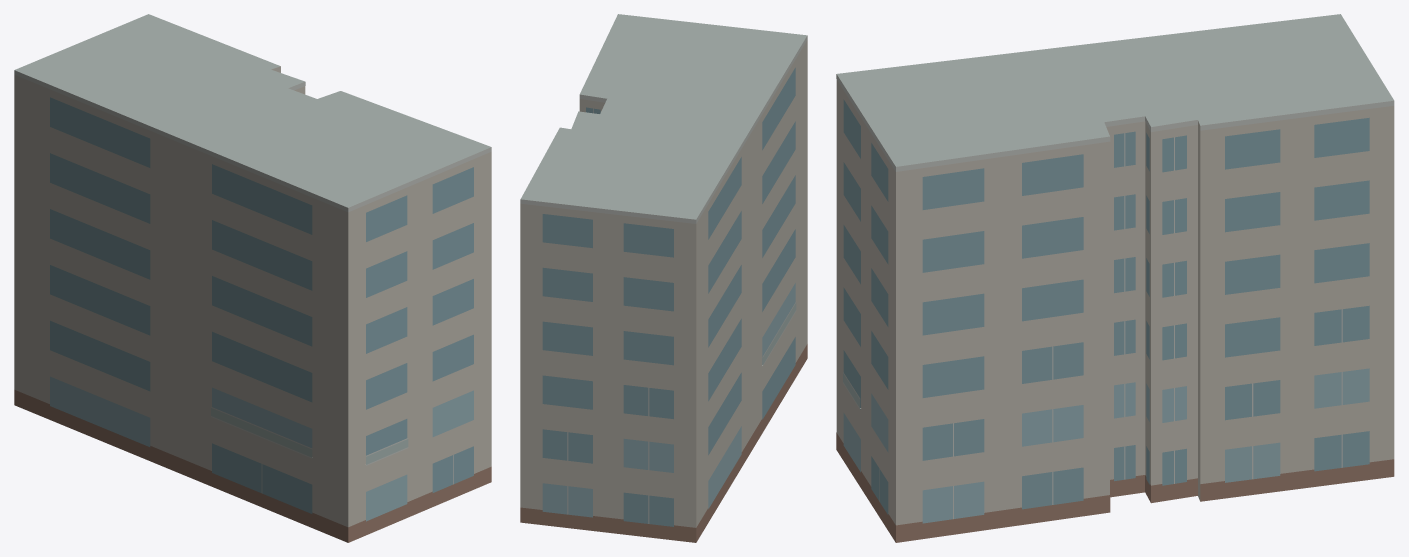
Rendered from survey-upis-32562142.glb.
3 views of the same model, side by side, from view 1: azimuth 30°, elevation 25°; view 2: azimuth 150°, elevation 25°; view 3: azimuth 270°, elevation 25° (orthographic). The views are drawn at different scales.
Visible parts, largest first — view 1: survey-upis-32562142.tmp; view 2: survey-upis-32562142.tmp; view 3: survey-upis-32562142.tmp.
Part boxes in pixels (x1,y1,x2,y2): survey-upis-32562142.tmp: [14, 14, 491, 542]; survey-upis-32562142.tmp: [520, 14, 807, 542]; survey-upis-32562142.tmp: [836, 14, 1394, 542].
Bounding box in the file's own units: 15.8 × 18.1 × 24.35.
